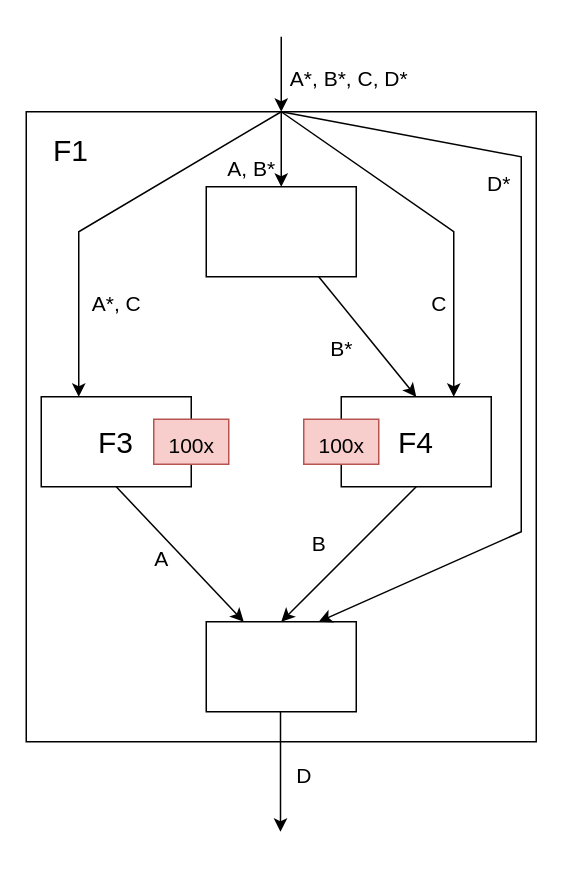
Some shapes in this 563 by 870 pixel diagram are drawn without their labels. Here are the shapes that lost their labels. From the top down, the centre of each, then its label:
point 280,231: F2
point 280,666: F5
